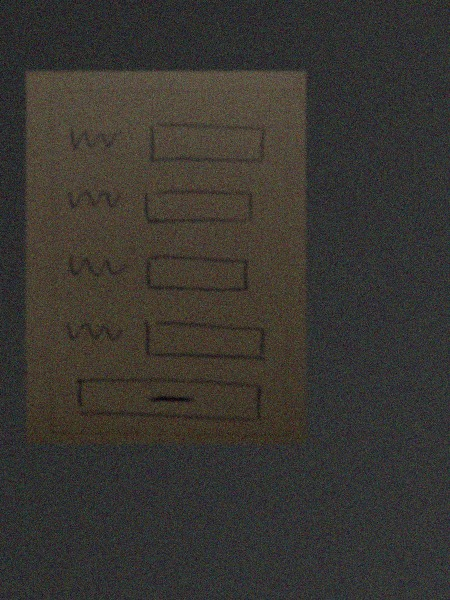button: (71, 374, 270, 426)
text: (65, 247, 129, 283), (61, 313, 125, 349), (63, 181, 126, 215), (66, 121, 127, 155)
text_input: (142, 116, 271, 169), (139, 317, 272, 367), (138, 186, 259, 230), (141, 252, 255, 297)
